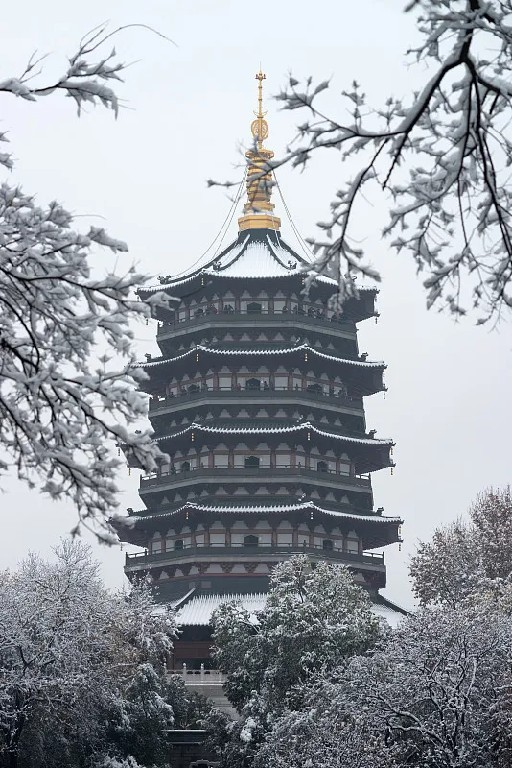Leifeng: (111, 58, 418, 732)
